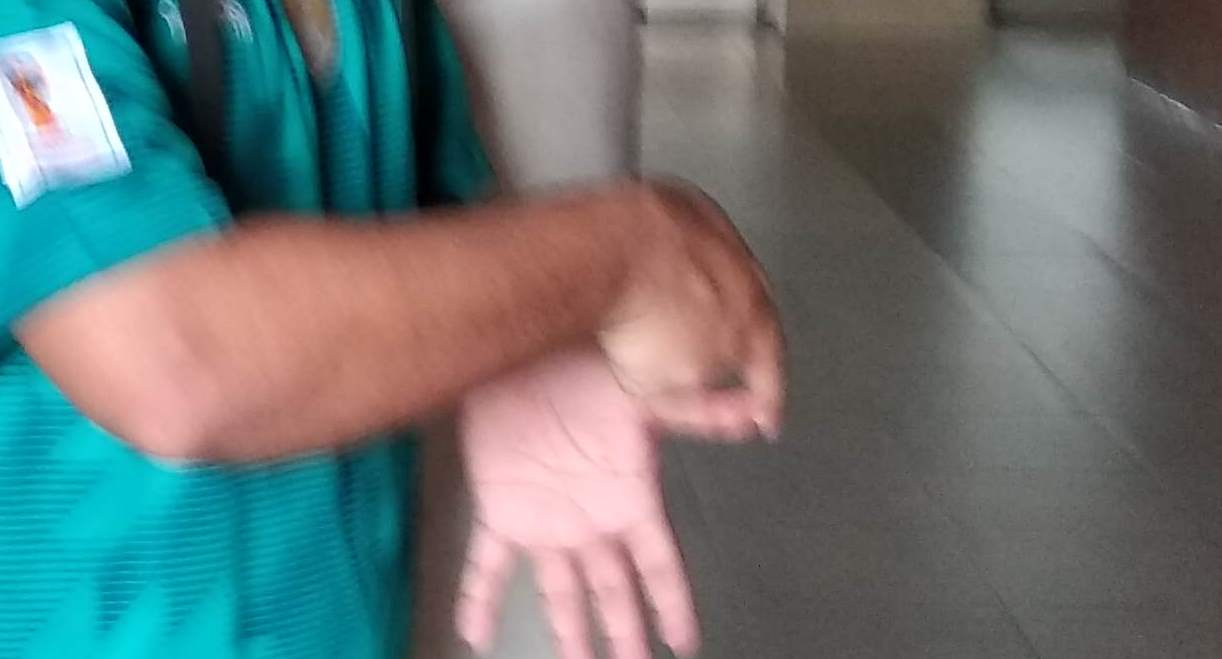a: (469, 227, 784, 659)
